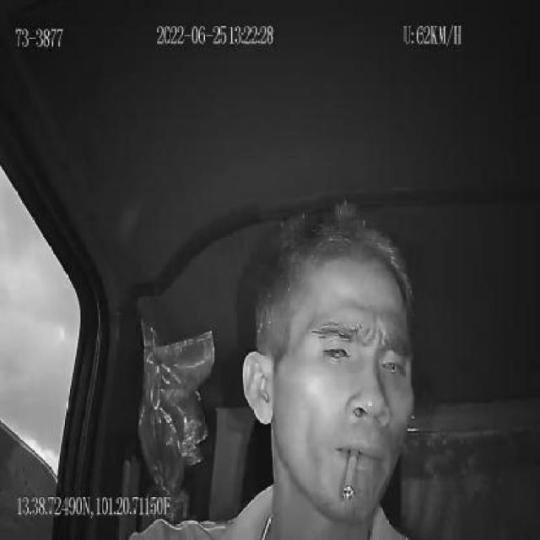smoking: (340, 446, 359, 502)
